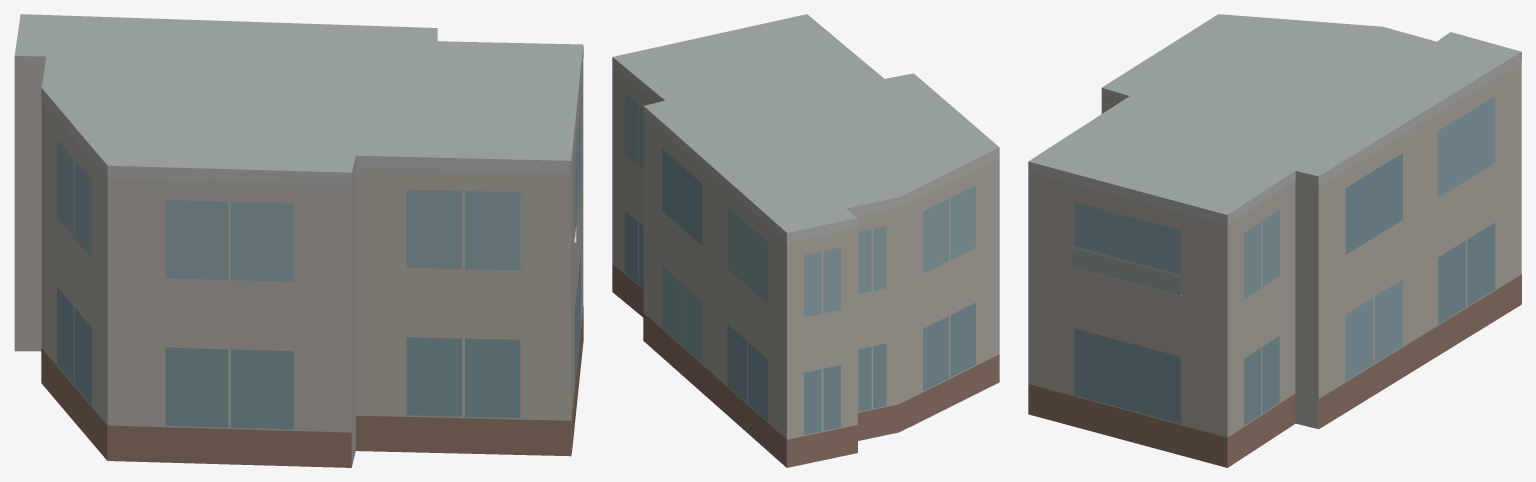
File: survey-upis-32696231.glb
3 renders of one model, left to right at view 1: azimuth 30°, elevation 25°; view 2: azimuth 150°, elevation 25°; view 3: azimuth 270°, elevation 25°, orthographic. The views are drawn at different scales.
Visible parts, largest first — view 1: survey-upis-32696231.tmp; view 2: survey-upis-32696231.tmp; view 3: survey-upis-32696231.tmp.
Boxes of the visible parts, x1,y1,x2,y2 form: survey-upis-32696231.tmp: (14, 14, 583, 467); survey-upis-32696231.tmp: (612, 14, 999, 467); survey-upis-32696231.tmp: (1028, 14, 1521, 467).
Size of the model in its own units: 10.41 by 6.1 by 10.8.
